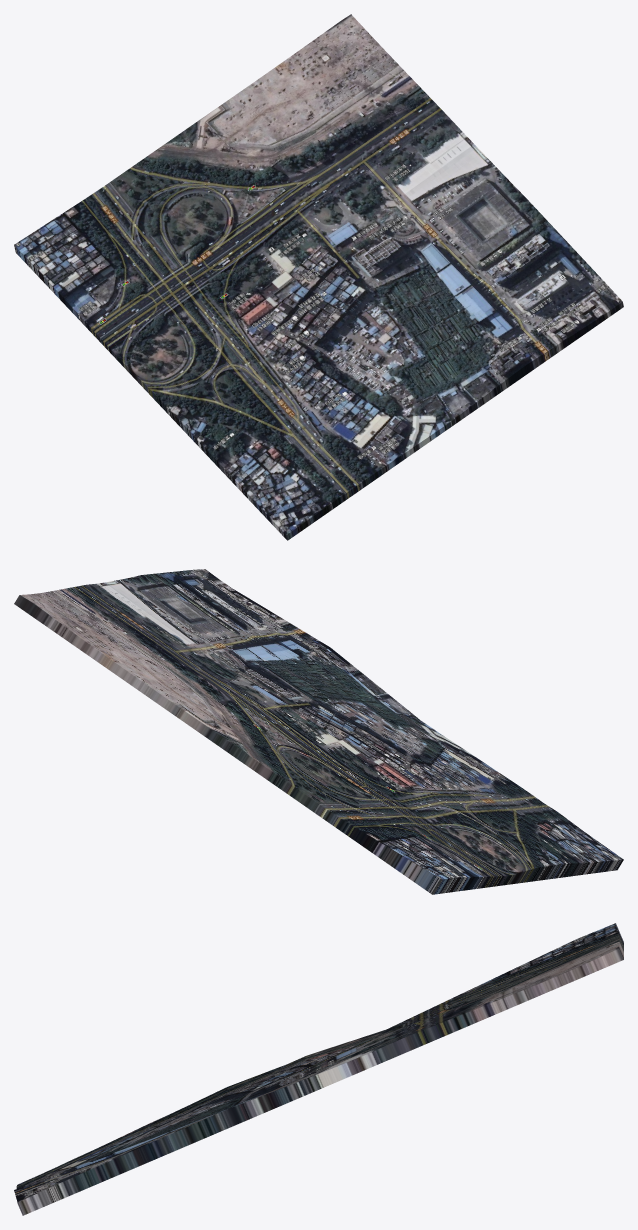
3 views of the same model, one above another, from view 1: azimuth 30°, elevation 25°; view 2: azimuth 150°, elevation 25°; view 3: azimuth 270°, elevation 25° (orthographic). The views are drawn at different scales.
Visible parts, largest first — view 1: 0_18_23; view 2: 0_18_23; view 3: 0_18_23.
Part boxes in pixels (bbox=[...]): 0_18_23: bbox=[14, 14, 623, 540]; 0_18_23: bbox=[14, 569, 623, 894]; 0_18_23: bbox=[14, 923, 623, 1215].
Size of the model in its own units: 599 by 437 by 550.
Materials: 1 (1 with a texture image).
